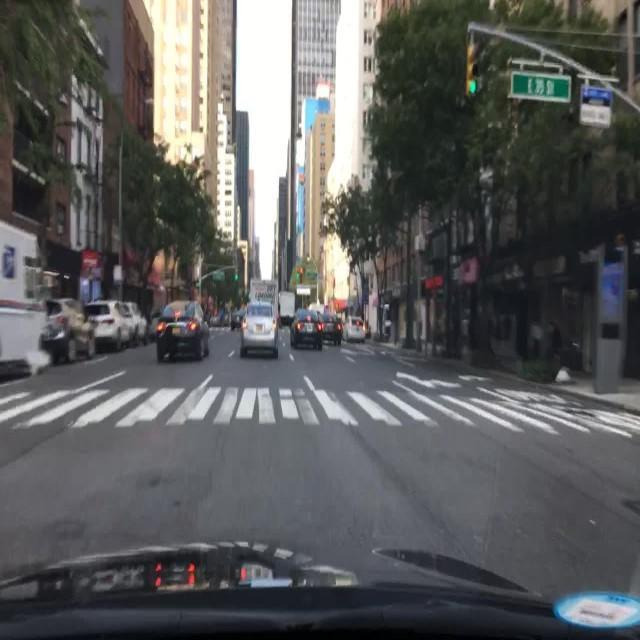normal: (137, 288, 222, 373), (284, 296, 350, 373), (227, 289, 285, 370)
